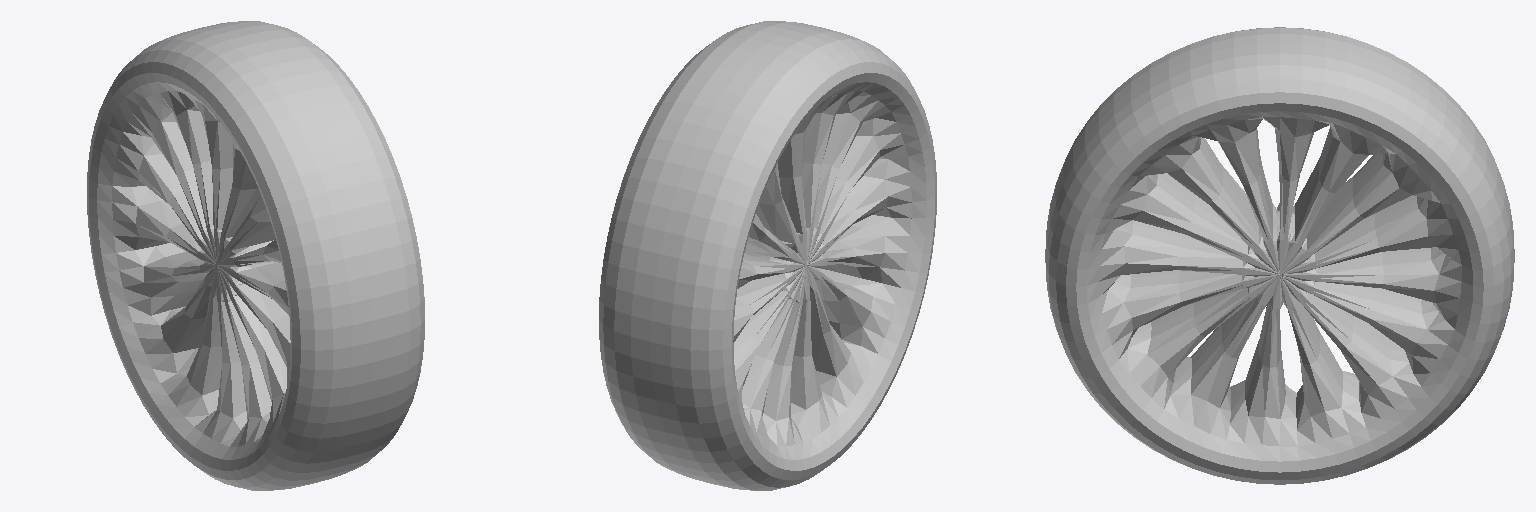
Rendered from wheel.obj.
The picture shows the model from 3 angles: view 1: azimuth 30°, elevation 25°; view 2: azimuth 150°, elevation 25°; view 3: azimuth 270°, elevation 25°; orthographic projection.
Visible parts, largest first — view 1: FrontWheel_Cube.005; view 2: FrontWheel_Cube.005; view 3: FrontWheel_Cube.005.
Boxes of the visible parts, box(x1,y1,x2,y2) form: FrontWheel_Cube.005: box(87, 21, 424, 490); FrontWheel_Cube.005: box(599, 21, 936, 490); FrontWheel_Cube.005: box(1045, 27, 1514, 484).
Size of the model in its own units: 0.3359 by 1.04 by 1.04.